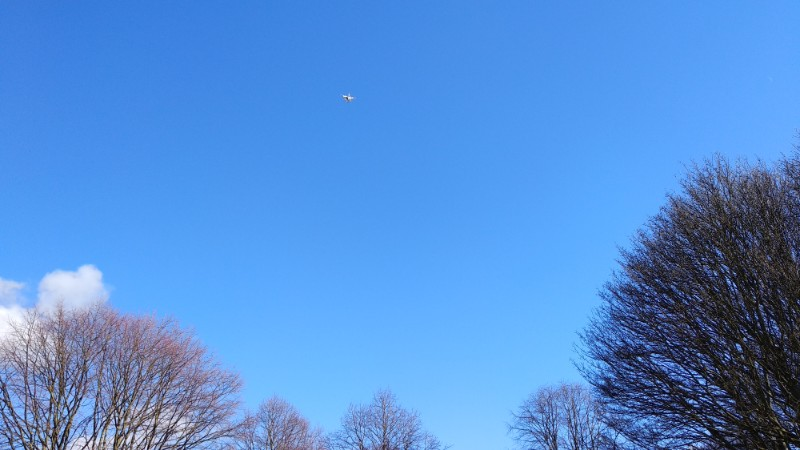drone: (340, 92, 356, 102)
